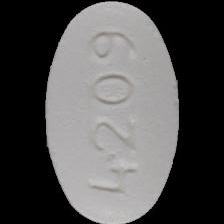43353-643: (0, 0, 224, 224)
